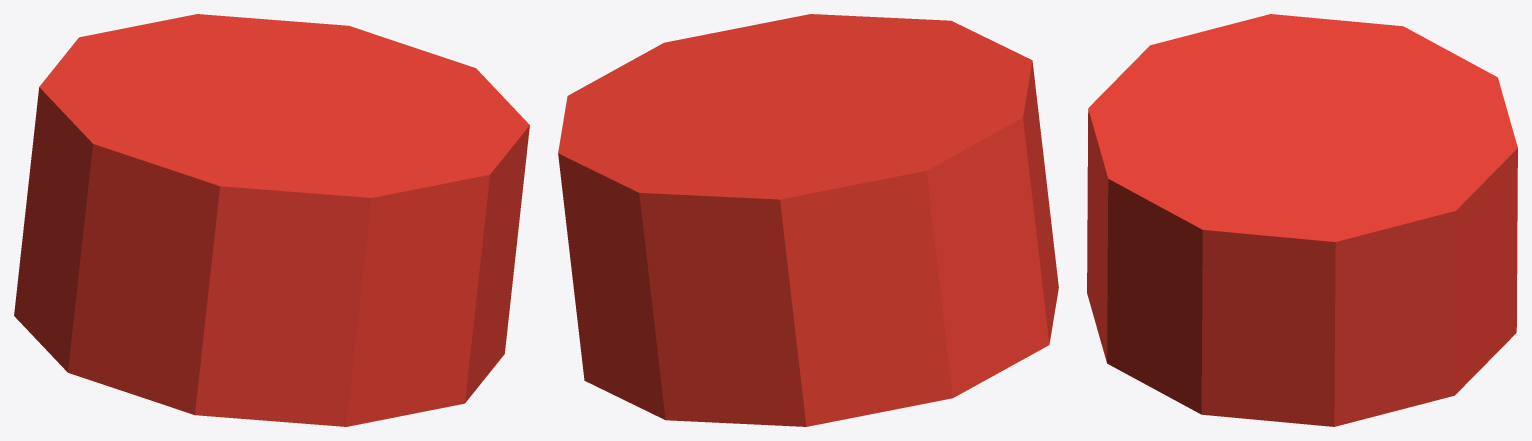
The model's file is group754144560_lev3.002.glb.
3 renders of one model, left to right at view 1: azimuth 30°, elevation 25°; view 2: azimuth 150°, elevation 25°; view 3: azimuth 270°, elevation 25°, orthographic. The views are drawn at different scales.
Parts seen in each view (by area): view 1: group754144560_lev3.002; view 2: group754144560_lev3.002; view 3: group754144560_lev3.002.
Part boxes in pixels (x1=…): group754144560_lev3.002: x1=14, y1=14, x2=529, y2=426; group754144560_lev3.002: x1=558, y1=14, x2=1058, y2=426; group754144560_lev3.002: x1=1087, y1=14, x2=1517, y2=426.
Bounding box in the file's own units: 0.5725 × 0.3387 × 0.5435.
